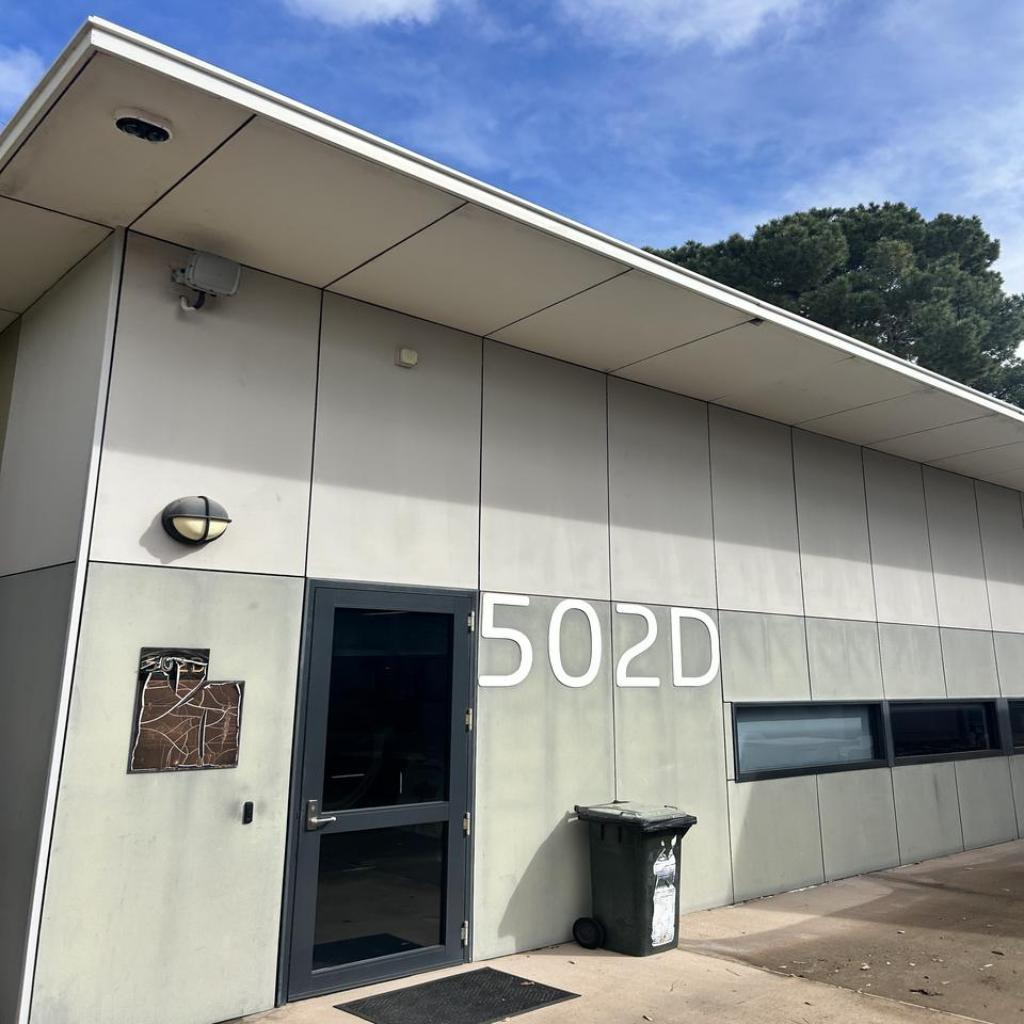BuildingCodes: (474, 588, 724, 690)
